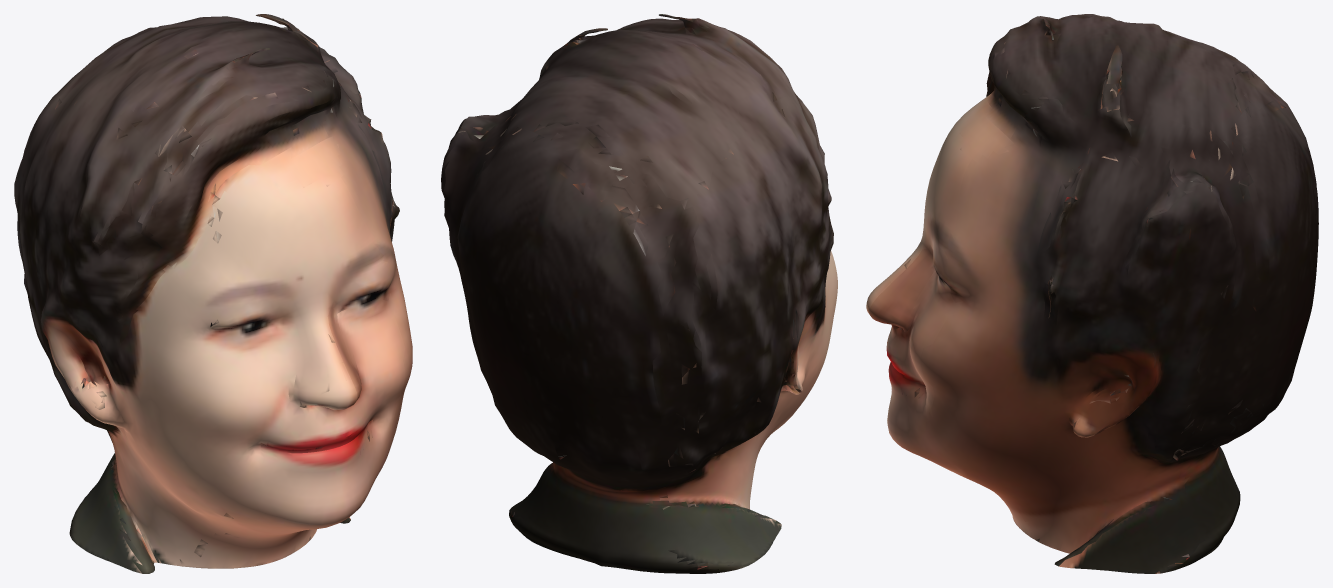
Rendered from Ms_Wang.glb.
3 renders of one model, left to right at view 1: azimuth 30°, elevation 25°; view 2: azimuth 150°, elevation 25°; view 3: azimuth 270°, elevation 25°, orthographic. The views are drawn at different scales.
Visible parts, largest first — view 1: Ms.Wang; view 2: Ms.Wang; view 3: Ms.Wang.
Boxes of the visible parts, left/top/right/bottom form: Ms.Wang: left=14, top=14, right=412, bottom=573; Ms.Wang: left=441, top=14, right=837, bottom=573; Ms.Wang: left=866, top=14, right=1318, bottom=573.
Bounding box in the file's own units: 4.65 × 6.59 × 5.52.
Materials: 1 (1 with a texture image).
